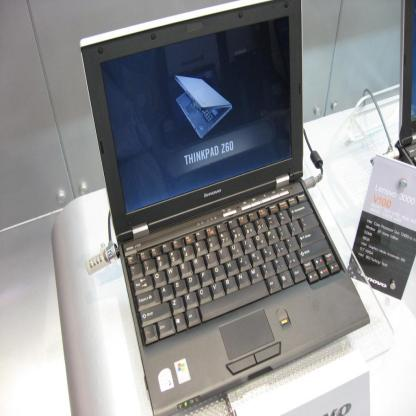board: (80, 0, 369, 415), (394, 0, 415, 168)
